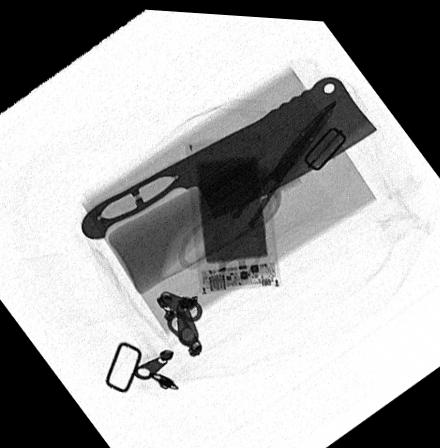Knife: (81, 70, 376, 237)
Powerbank: (182, 127, 284, 292)
Scissors: (182, 95, 337, 284)
